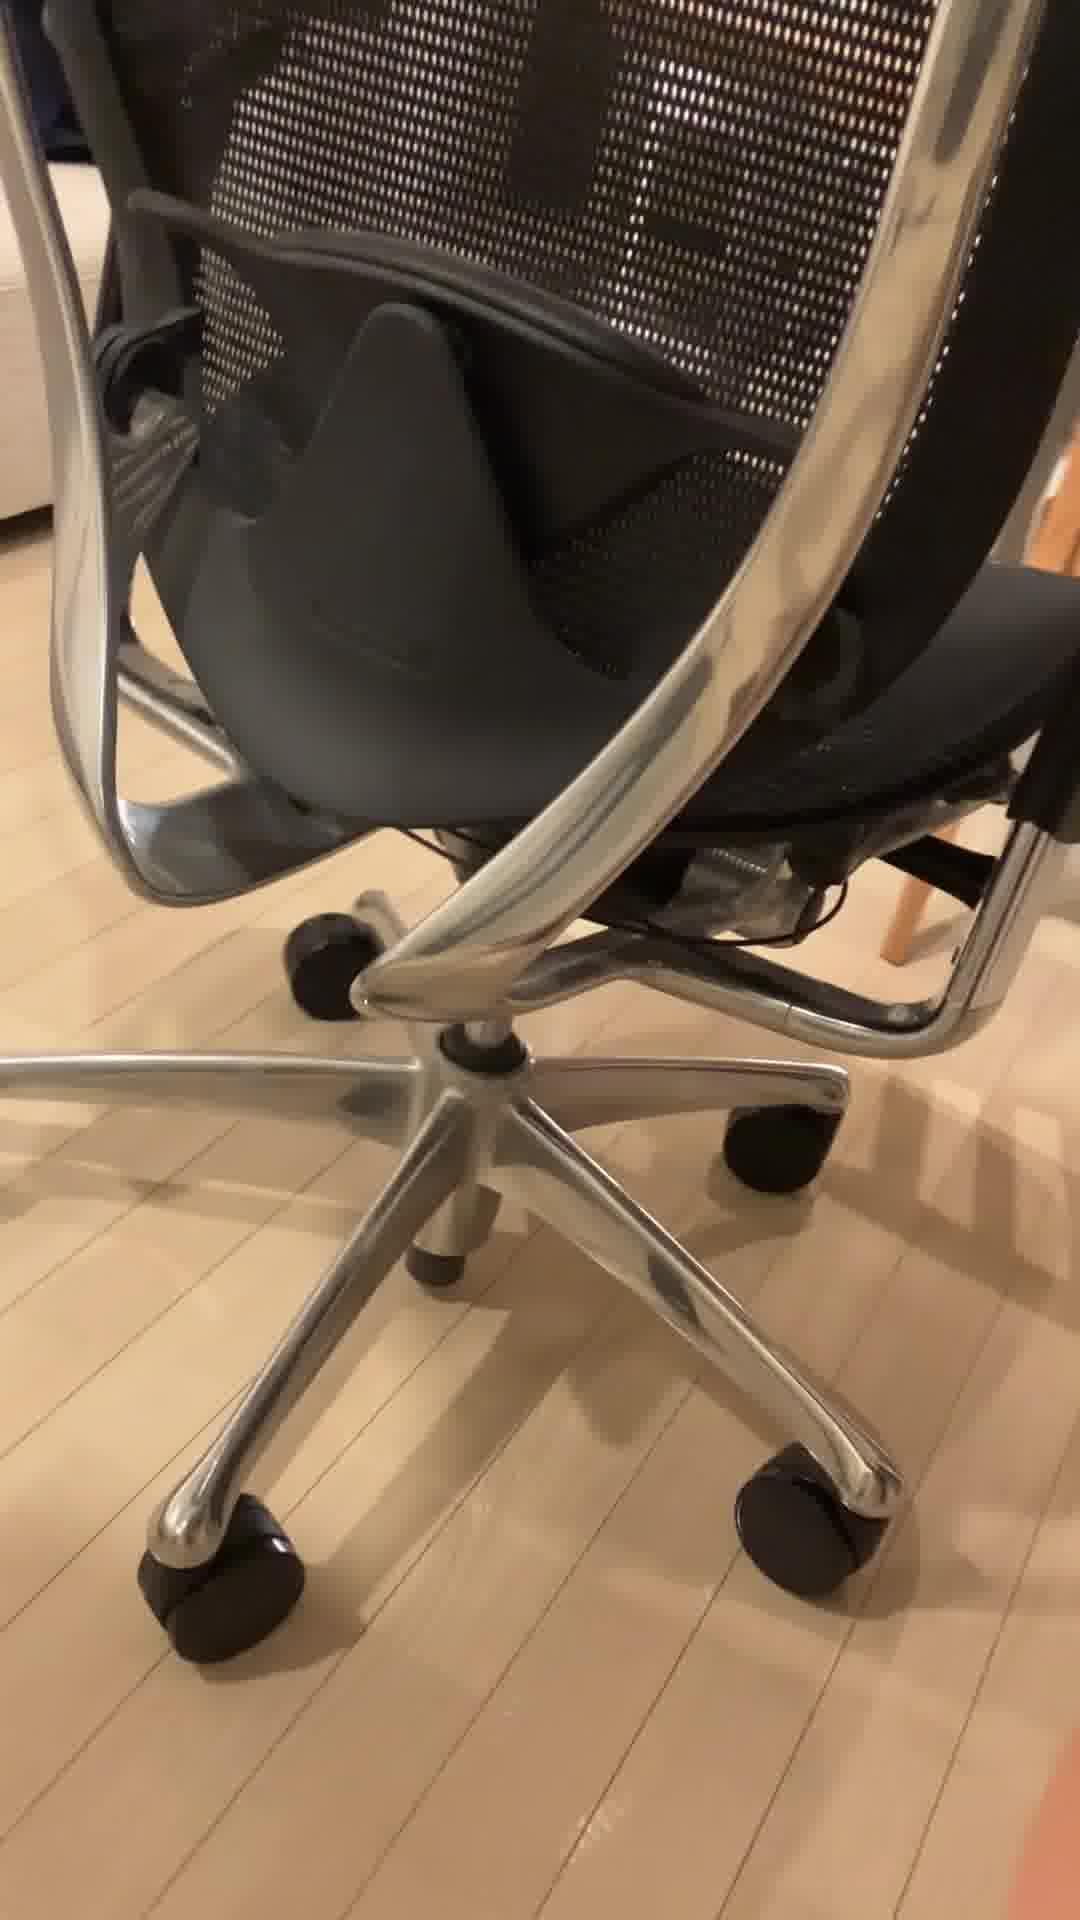okamura-contessa: (0, 0, 1080, 1676)
